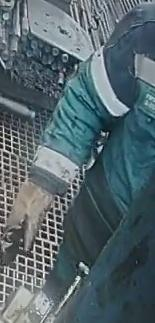gloves: (0, 167, 52, 265)
vest: (52, 2, 154, 251)
